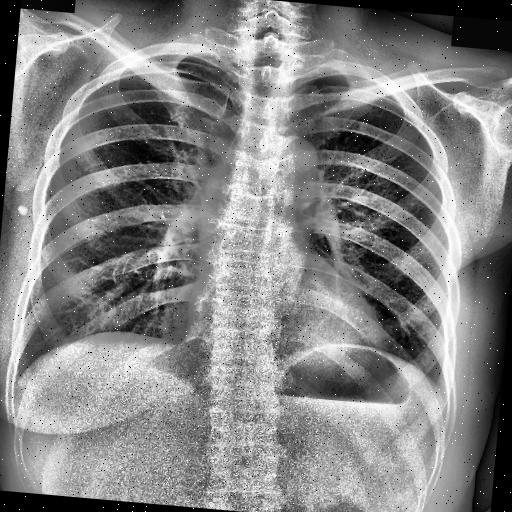0- Aortic enlargement: (266, 139, 322, 215), (260, 132, 322, 192), (262, 135, 320, 197)
9- Other lesion: (16, 204, 32, 218)
